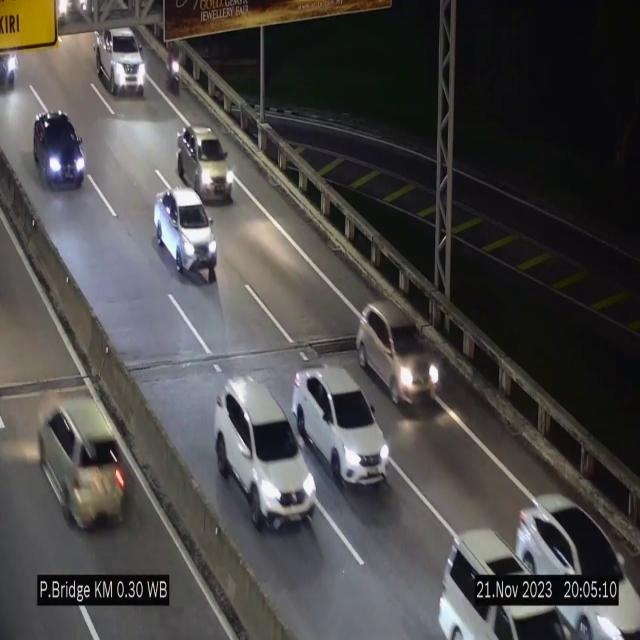Car: (214, 377, 316, 529), (292, 366, 390, 486), (356, 298, 441, 415), (153, 187, 217, 280), (32, 106, 86, 196), (177, 125, 233, 204), (96, 28, 146, 97)
Motorcycle: (165, 38, 183, 102)
